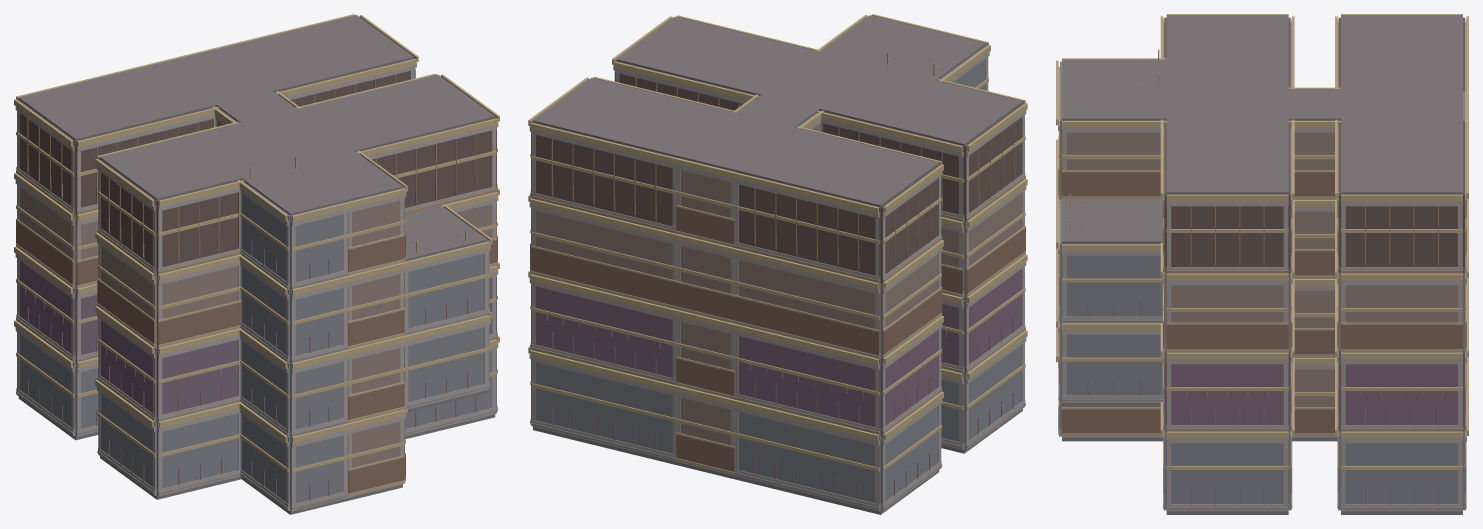
File: estate_stairs_assembled.glb
3 views of the same model, side by side, from view 1: azimuth 30°, elevation 25°; view 2: azimuth 150°, elevation 25°; view 3: azimuth 270°, elevation 25° (orthographic). The views are drawn at different scales.
Parts seen in each view (by area): view 1: floor3-fe-f3-hall-ceiling, floor3-fe-f3-room1-ceiling, floor3-fe-f3-room2-ceiling, floor3-fe-f3-room3-ceiling, floor3-fe-f3-room4-ceiling, floor3-fe-f3-room4-top-end, floor3-fe-f3-room3-top-end, floor0-fe-f0-room3-top-end, floor1-fe-f1-room3-top-end, floor2-fe-f2-spiral-top-end, floor1-fe-f1-spiral-top-end, floor3-fe-f3-room3-left-end (+49 smaller); view 2: floor3-fe-f3-hall-ceiling, floor3-fe-f3-room1-ceiling, floor3-fe-f3-room3-ceiling, floor3-fe-f3-room2-ceiling, floor3-fe-f3-room4-ceiling, floor3-fe-f3-room1-bottom-end, floor1-fe-f1-room1-bottom-end, floor0-fe-f0-room1-bottom-end, floor0-fe-f0-room2-bottom-end, floor1-fe-f1-room2-bottom-end, floor3-fe-f3-room2-bottom-end, floor2-fe-f2-room1-bottom-end (+64 smaller); view 3: floor3-fe-f3-hall-ceiling, floor3-fe-f3-room4-ceiling, floor3-fe-f3-room2-ceiling, floor3-fe-f3-room3-ceiling, floor3-fe-f3-room1-ceiling, floor3-fe-f3-room4-right-end, floor3-fe-f3-room2-right-end, floor0-fe-f0-room4-right-end, floor1-fe-f1-room4-right-end, floor0-fe-f0-room2-right-end, floor1-fe-f1-room2-right-end, floor2-fe-f2-spiral-right-end (+68 smaller).
Part boxes in pixels (x1,y1,x2,y2): floor3-fe-f3-hall-ceiling: (160, 49, 402, 201); floor3-fe-f3-room1-ceiling: (18, 63, 216, 140); floor3-fe-f3-room2-ceiling: (216, 15, 413, 92); floor3-fe-f3-room3-ceiling: (100, 122, 297, 200); floor3-fe-f3-room4-ceiling: (298, 74, 495, 151); floor3-fe-f3-room4-top-end: (356, 118, 496, 207); floor3-fe-f3-room3-top-end: (157, 180, 240, 274); floor0-fe-f0-room3-top-end: (157, 413, 238, 495); floor1-fe-f1-room3-top-end: (157, 339, 238, 421); floor2-fe-f2-spiral-top-end: (404, 241, 487, 328); floor1-fe-f1-spiral-top-end: (404, 327, 484, 402); floor3-fe-f3-room3-left-end: (99, 159, 156, 274); floor3-fe-f3-hall-ceiling: (678, 15, 927, 171); floor3-fe-f3-room1-ceiling: (736, 127, 939, 207); floor3-fe-f3-room3-ceiling: (819, 66, 1022, 145); floor3-fe-f3-room2-ceiling: (533, 77, 735, 157); floor3-fe-f3-room4-ceiling: (616, 16, 819, 95); floor3-fe-f3-room1-bottom-end: (735, 172, 880, 283); floor1-fe-f1-room1-bottom-end: (739, 336, 880, 434); floor0-fe-f0-room1-bottom-end: (739, 412, 880, 507); floor0-fe-f0-room2-bottom-end: (536, 362, 676, 453); floor1-fe-f1-room2-bottom-end: (536, 286, 676, 377); floor3-fe-f3-room2-bottom-end: (533, 122, 677, 226); floor2-fe-f2-room1-bottom-end: (739, 260, 880, 359); floor3-fe-f3-hall-ceiling: (1062, 89, 1462, 120); floor3-fe-f3-room4-ceiling: (1166, 118, 1288, 194); floor3-fe-f3-room2-ceiling: (1341, 118, 1462, 194); floor3-fe-f3-room3-ceiling: (1166, 15, 1288, 88); floor3-fe-f3-room1-ceiling: (1341, 15, 1462, 88); floor3-fe-f3-room4-right-end: (1166, 194, 1288, 266); floor3-fe-f3-room2-right-end: (1341, 194, 1462, 266); floor0-fe-f0-room4-right-end: (1166, 443, 1288, 503); floor1-fe-f1-room4-right-end: (1166, 364, 1288, 424); floor0-fe-f0-room2-right-end: (1341, 443, 1462, 503); floor1-fe-f1-room2-right-end: (1341, 364, 1462, 424); floor2-fe-f2-spiral-right-end: (1062, 244, 1161, 316).
Bounding box in the file's own units: 15.04 × 12.94 × 14.43.
